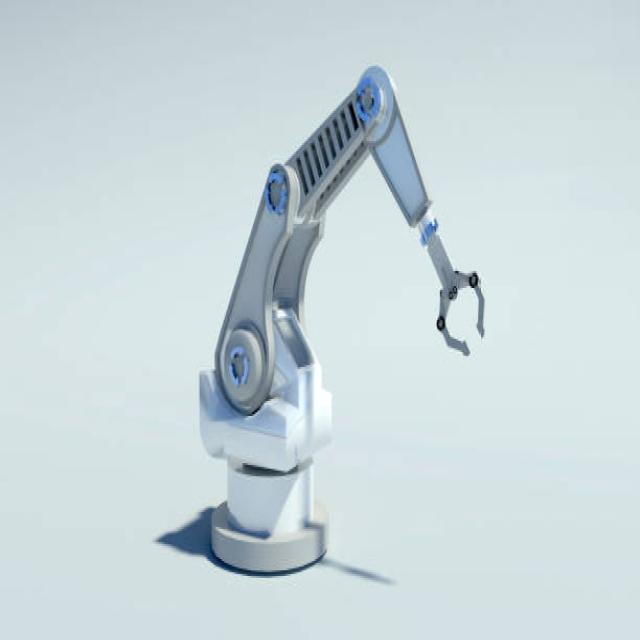Robotic-arm: (196, 51, 493, 576)
